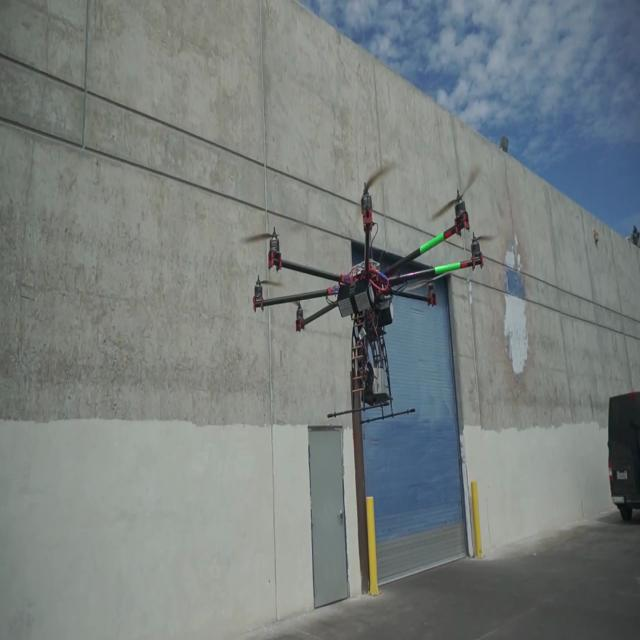drone: (210, 184, 484, 434)
